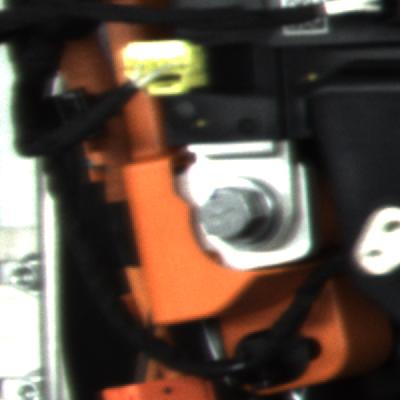nut_b: (188, 165, 288, 256)
